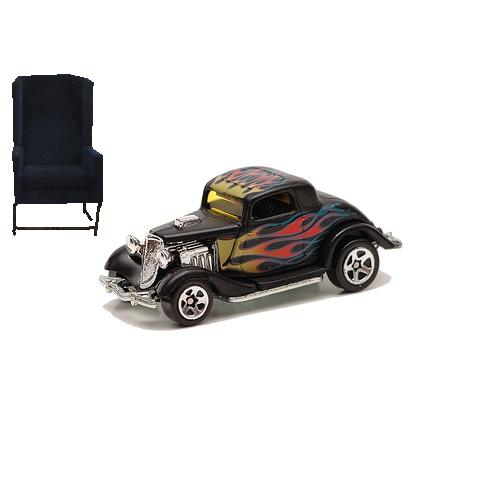tampered: (13, 75, 103, 236)
